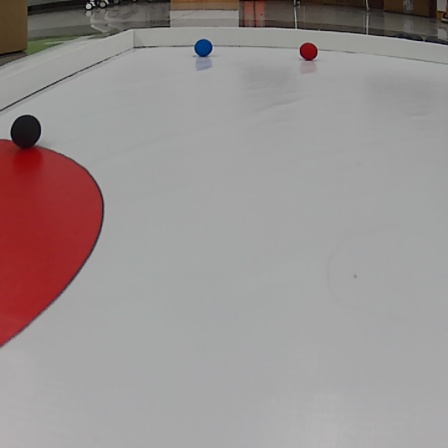black: (8, 114, 46, 152)
blue: (192, 38, 213, 58)
red: (298, 41, 321, 62)
red_base: (0, 139, 120, 355)
